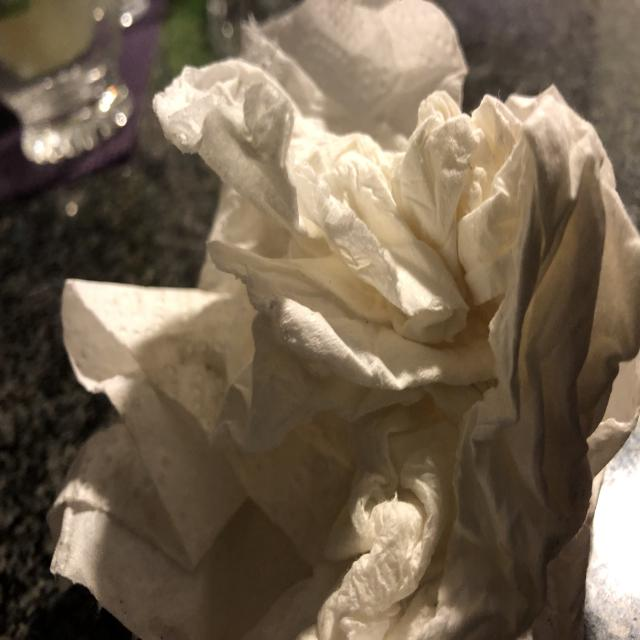kitchen paper: (147, 53, 640, 640), (44, 266, 526, 640), (196, 0, 474, 288)
